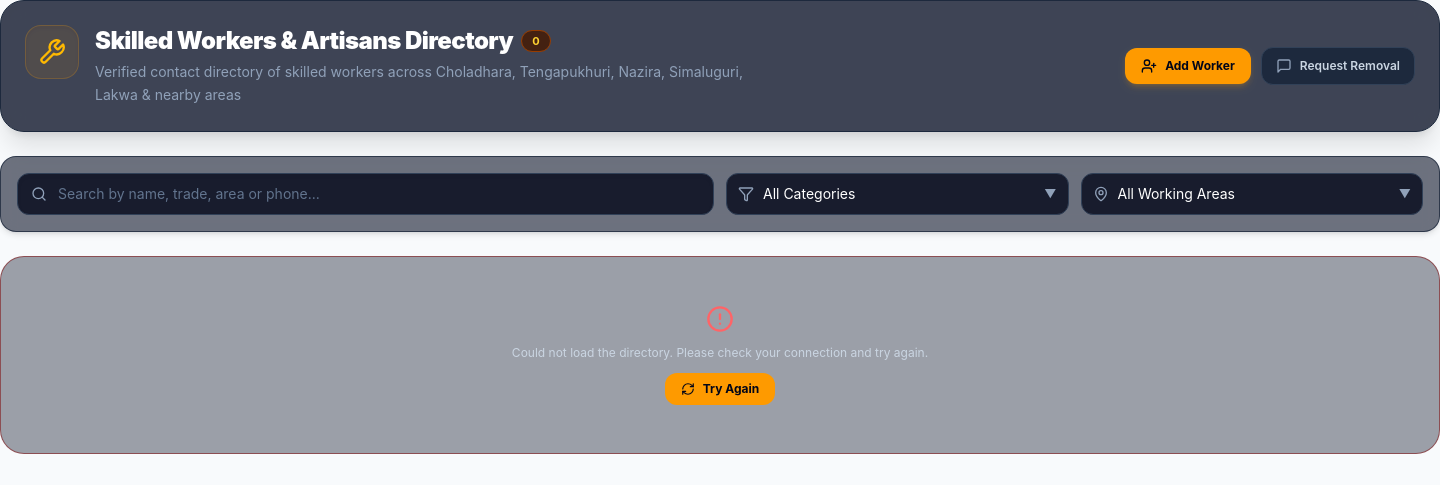
Scenario: SkilledWorkers › shows an error with retry when loading fails
The image size is (1440, 485).
Expected: the text "Could not load the directory" is shown, [512,344,928,360]
Click the button "Try Again": (720, 388) [665,372,775,404]
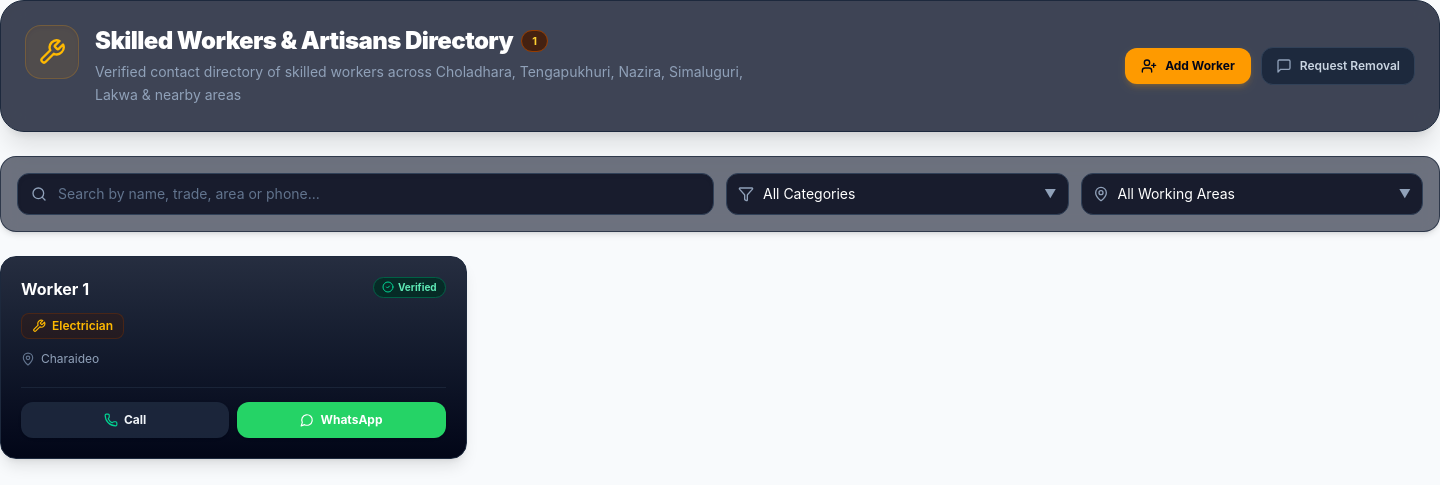
Now the heading "Worker 1" is shown, box [21,276,89,300]
